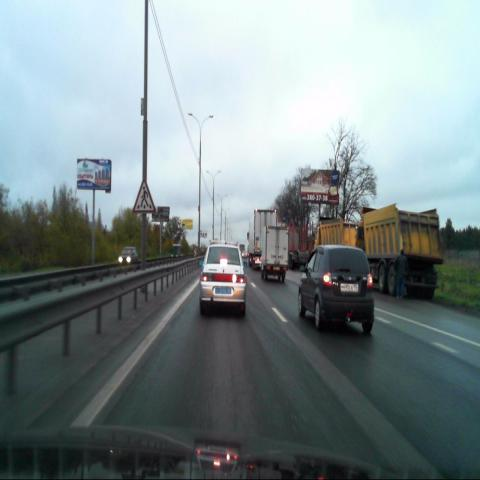1_22: (133, 176, 156, 212)
